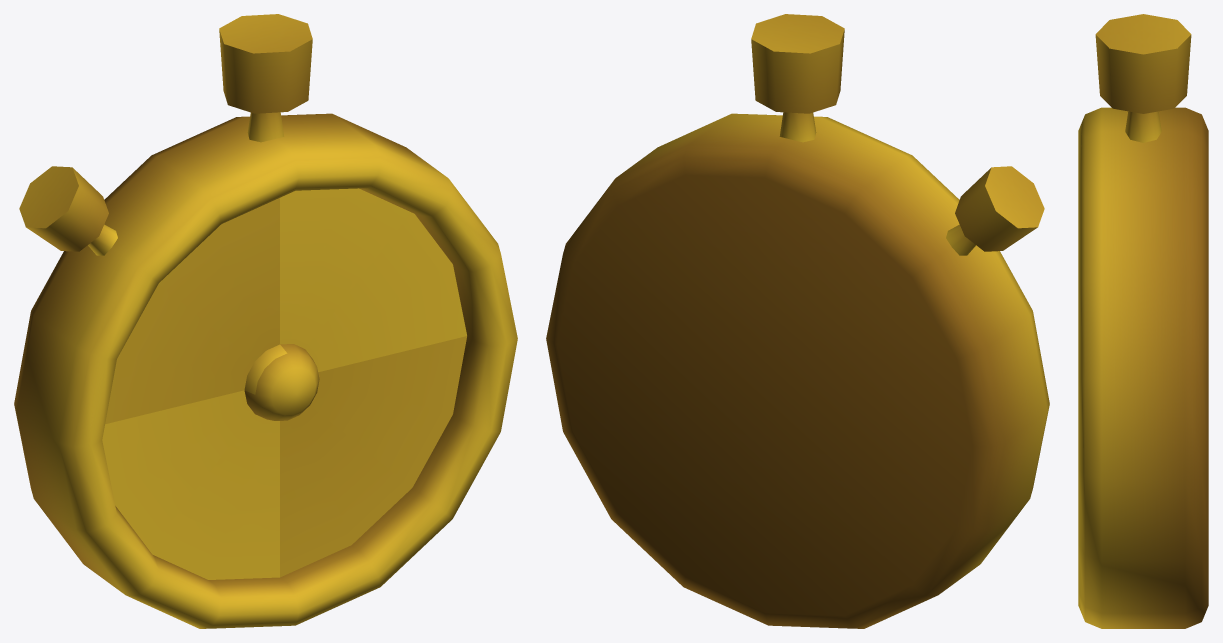
The model's file is Fbx_Stopwatch_Medal.fbx.
3 renders of one model, left to right at view 1: azimuth 30°, elevation 25°; view 2: azimuth 150°, elevation 25°; view 3: azimuth 270°, elevation 25°, orthographic.
Visible parts, largest first — view 1: Body, Main Button, Reset Button; view 2: Body, Main Button, Reset Button; view 3: Body, Main Button.
Boxes of the visible parts, x1,y1,x2,y2 form: Body: [14, 113, 517, 628]; Main Button: [219, 14, 312, 142]; Reset Button: [19, 166, 117, 255]; Body: [546, 113, 1049, 628]; Main Button: [751, 14, 844, 142]; Reset Button: [946, 166, 1044, 255]; Body: [1078, 107, 1208, 628]; Main Button: [1095, 14, 1191, 142].
Size of the model in its own units: 2.05 by 2.41 by 0.5.
